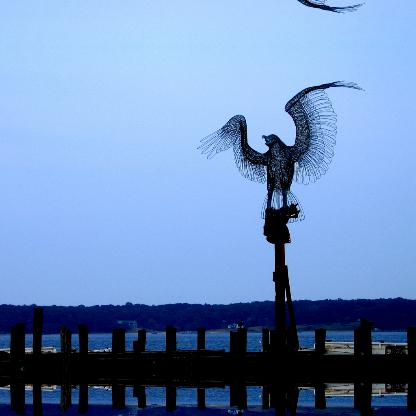Bird: (196, 74, 354, 228)
